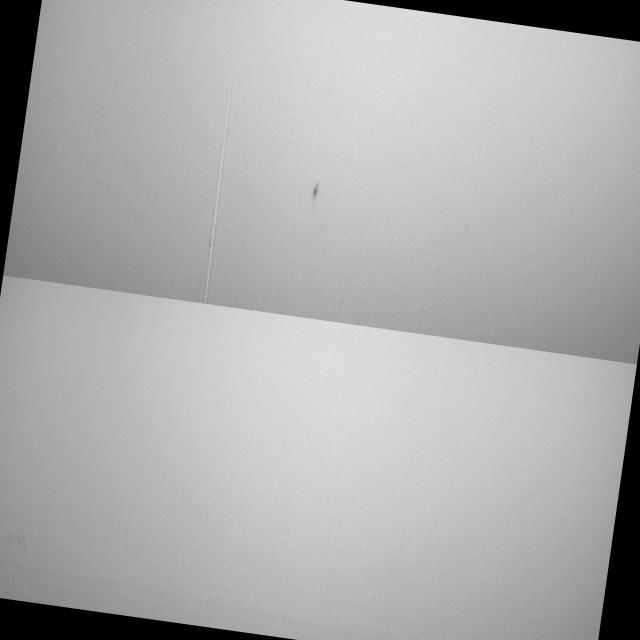Stain: (308, 178, 322, 205)
Warp_Weft: (196, 63, 242, 307)
